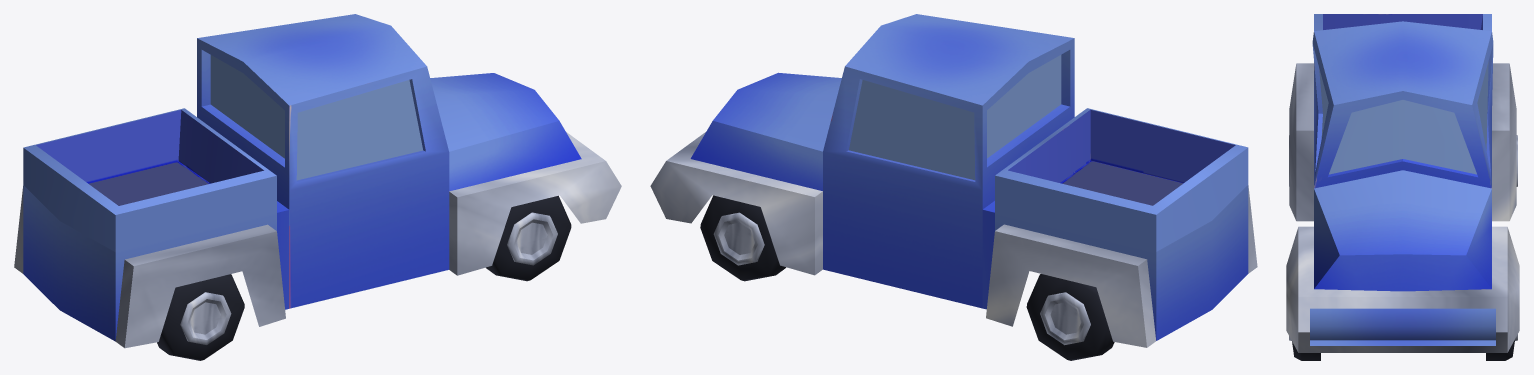
Rendered from Voiture_bleue_fbx.fbx.
3 renders of one model, left to right at view 1: azimuth 30°, elevation 25°; view 2: azimuth 150°, elevation 25°; view 3: azimuth 270°, elevation 25°, orthographic. The views are drawn at different scales.
Parts seen in each view (by area): view 1: Corps_Voiture_bleue, Roue_15, Roue_14; view 2: Corps_Voiture_bleue, Roue_13, Roue_1; view 3: Corps_Voiture_bleue, Roue_1, Roue_14.
Boxes of the visible parts, x1,y1,x2,y2 form: Corps_Voiture_bleue: (14, 14, 621, 348); Roue_15: (157, 274, 244, 360); Roue_14: (486, 195, 571, 281); Corps_Voiture_bleue: (650, 14, 1257, 347); Roue_13: (1026, 274, 1114, 360); Roue_1: (700, 195, 785, 281); Corps_Voiture_bleue: (1286, 14, 1519, 352); Roue_1: (1486, 334, 1517, 360); Roue_14: (1289, 336, 1320, 360).
Bounding box in the file's own units: 285 × 127 × 118.
